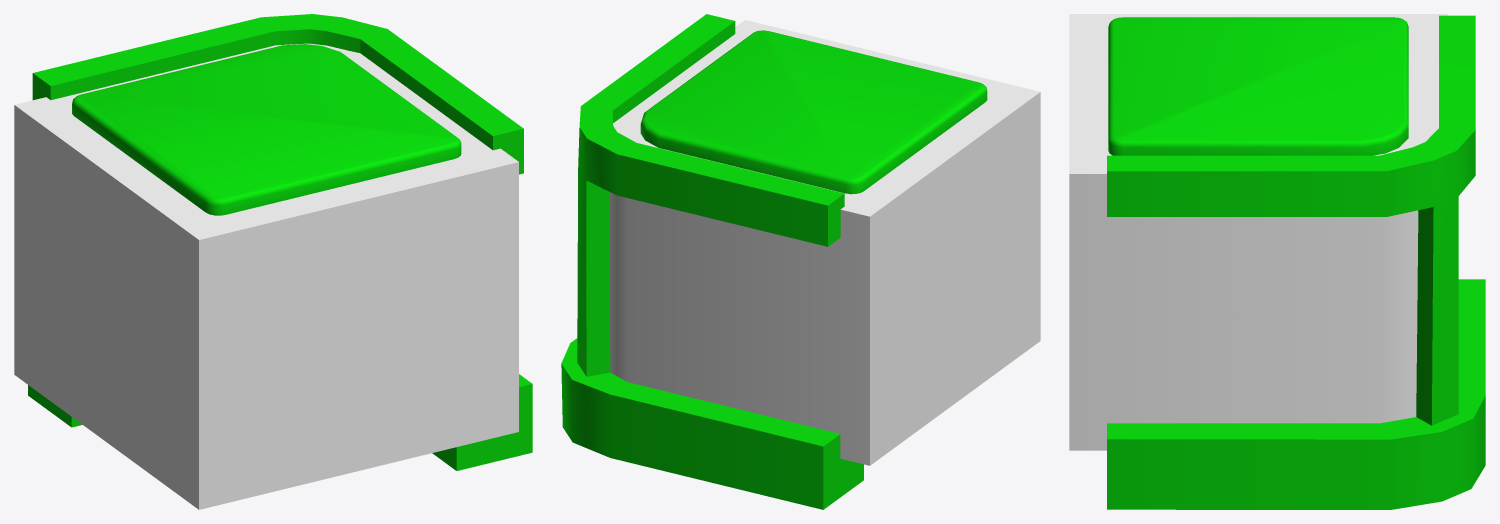
Rendered from 1SideNormalTile.fbx.
The picture shows the model from 3 angles, left to right: view 1: azimuth 30°, elevation 25°; view 2: azimuth 150°, elevation 25°; view 3: azimuth 270°, elevation 25°; orthographic projection. The views are drawn at different scales.
Visible parts, largest first — view 1: 1SideNormalTile; view 2: 1SideNormalTile; view 3: 1SideNormalTile.
Part boxes in pixels (x1,y1,x2,y2): 1SideNormalTile: (14,14,532,509); 1SideNormalTile: (561,14,1040,509); 1SideNormalTile: (1069,14,1485,509).
Bounding box in the file's own units: 110 × 97.53 × 110.
